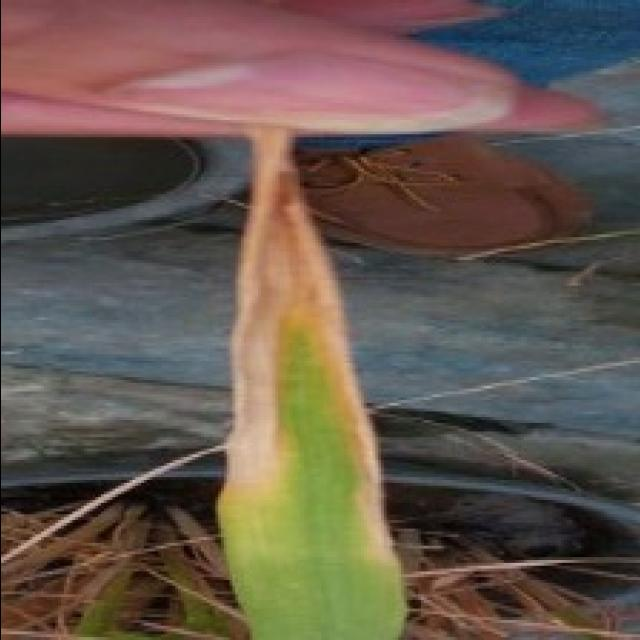Unhealthy: (226, 127, 396, 567)
